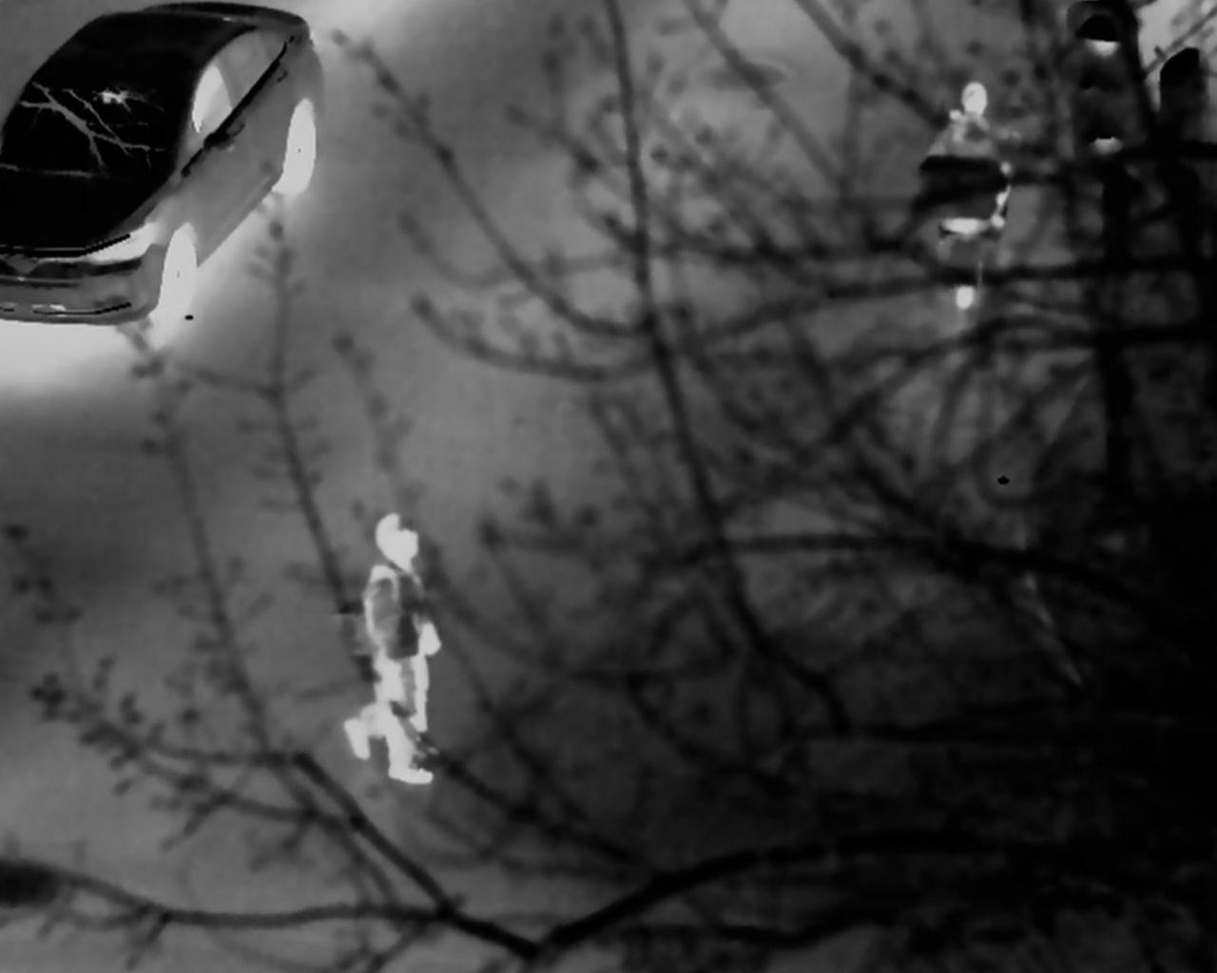person: (354, 506, 446, 784), (936, 82, 1024, 305)
